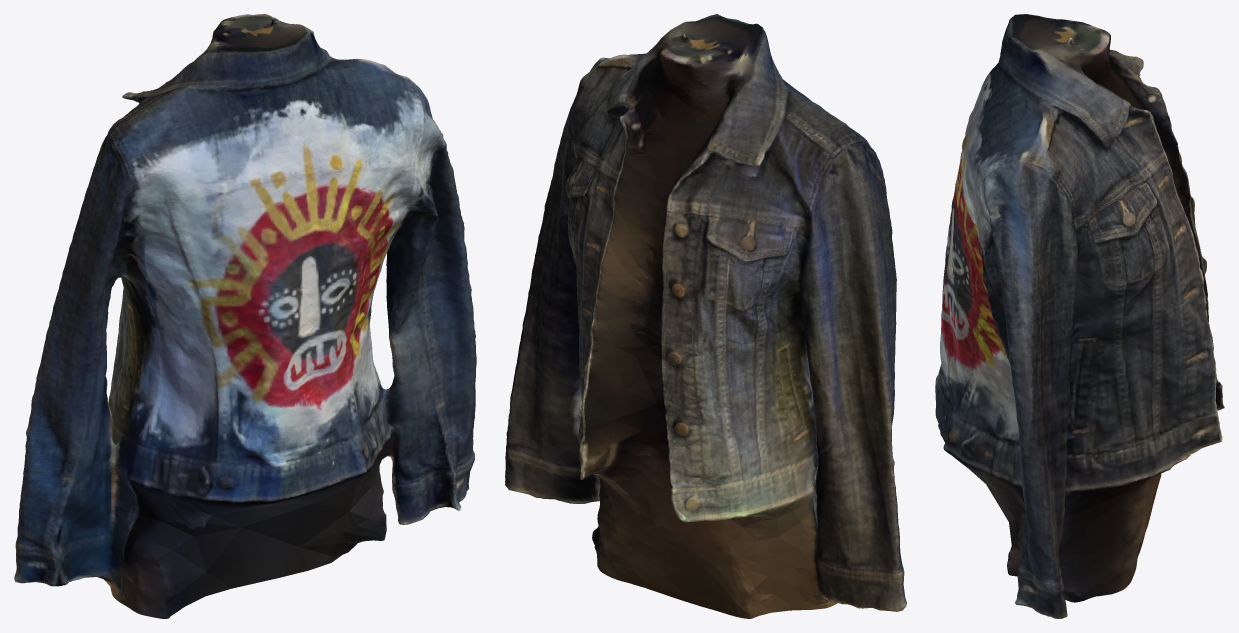
File: sun-ghost.glb
3 views of the same model, side by side, from view 1: azimuth 30°, elevation 25°; view 2: azimuth 150°, elevation 25°; view 3: azimuth 270°, elevation 25° (orthographic). The views are drawn at different scales.
Visible parts, largest first — view 1: mesh; view 2: mesh; view 3: mesh.
Boxes of the visible parts, bbox=[...] form: mesh: bbox=[14, 14, 476, 618]; mesh: bbox=[505, 14, 906, 618]; mesh: bbox=[935, 14, 1224, 618].
Size of the model in its own units: 0.5003 by 0.6002 by 0.2999.
Materials: 1 (1 with a texture image).
